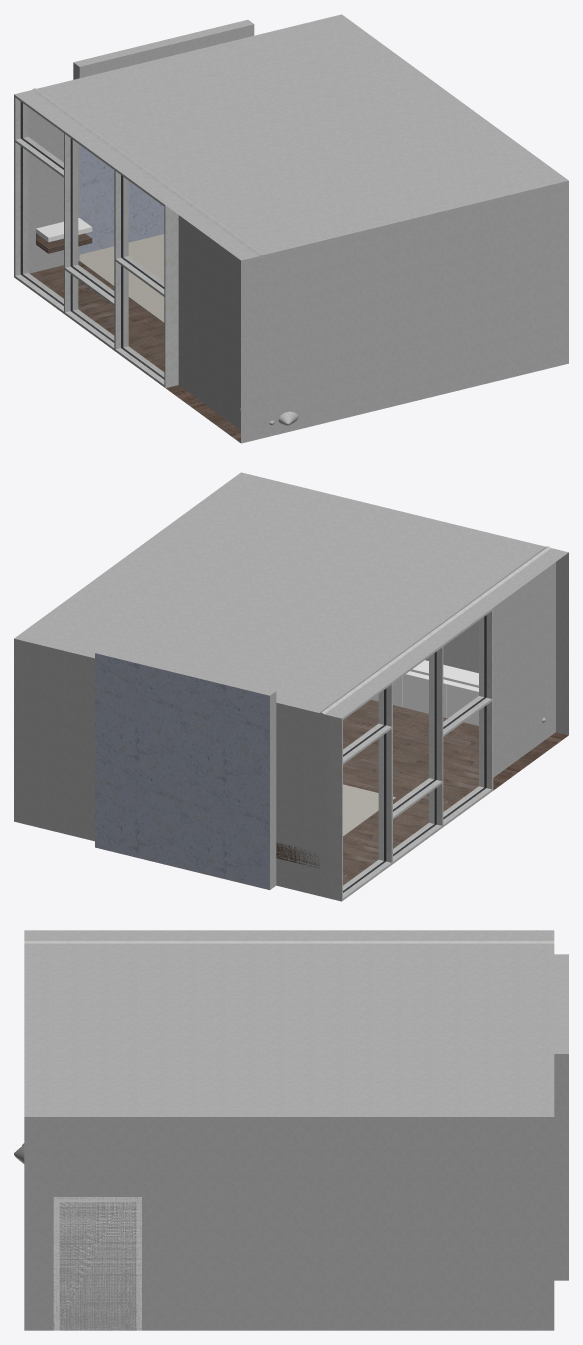
File: Neon_World_3.glb
3 views of the same model, one above another, from view 1: azimuth 30°, elevation 25°; view 2: azimuth 150°, elevation 25°; view 3: azimuth 270°, elevation 25° (orthographic). The views are drawn at different scales.
Parts seen in each view (by area): view 1: Base1, Window, WindowFrame, Base2, Carpet, Curtain Frame, Nightstand; view 2: Base1, Window, WindowFrame, Base2, Carpet, Curtain Frame, DrawerDoor2, Drawer Base, DrawerDoor1; view 3: Base1, Door, Door Frame, Curtain Frame.
Part boxes in pixels (<box>): Base1: <box>14,14,568,443</box>; Window: <box>22,104,163,377</box>; WindowFrame: <box>14,94,178,387</box>; Base2: <box>178,215,240,430</box>; Carpet: <box>79,234,164,322</box>; Curtain Frame: <box>32,88,263,258</box>; Nightstand: <box>36,218,92,253</box>; Base1: <box>14,472,568,901</box>; Window: <box>343,618,483,889</box>; WindowFrame: <box>328,608,493,901</box>; Base2: <box>493,562,555,777</box>; Carpet: <box>95,784,395,889</box>; Curtain Frame: <box>319,546,550,715</box>; DrawerDoor2: <box>403,673,446,717</box>; Drawer Base: <box>407,660,478,691</box>; DrawerDoor1: <box>446,683,478,725</box>; Base1: <box>24,930,568,1330</box>; Door: <box>59,1202,136,1330</box>; Door Frame: <box>53,1197,141,1330</box>; Curtain Frame: <box>24,940,554,943</box>.
Size of the model in its own units: 7.5 by 4.25 by 9.43.
12 materials, 8 textured.
